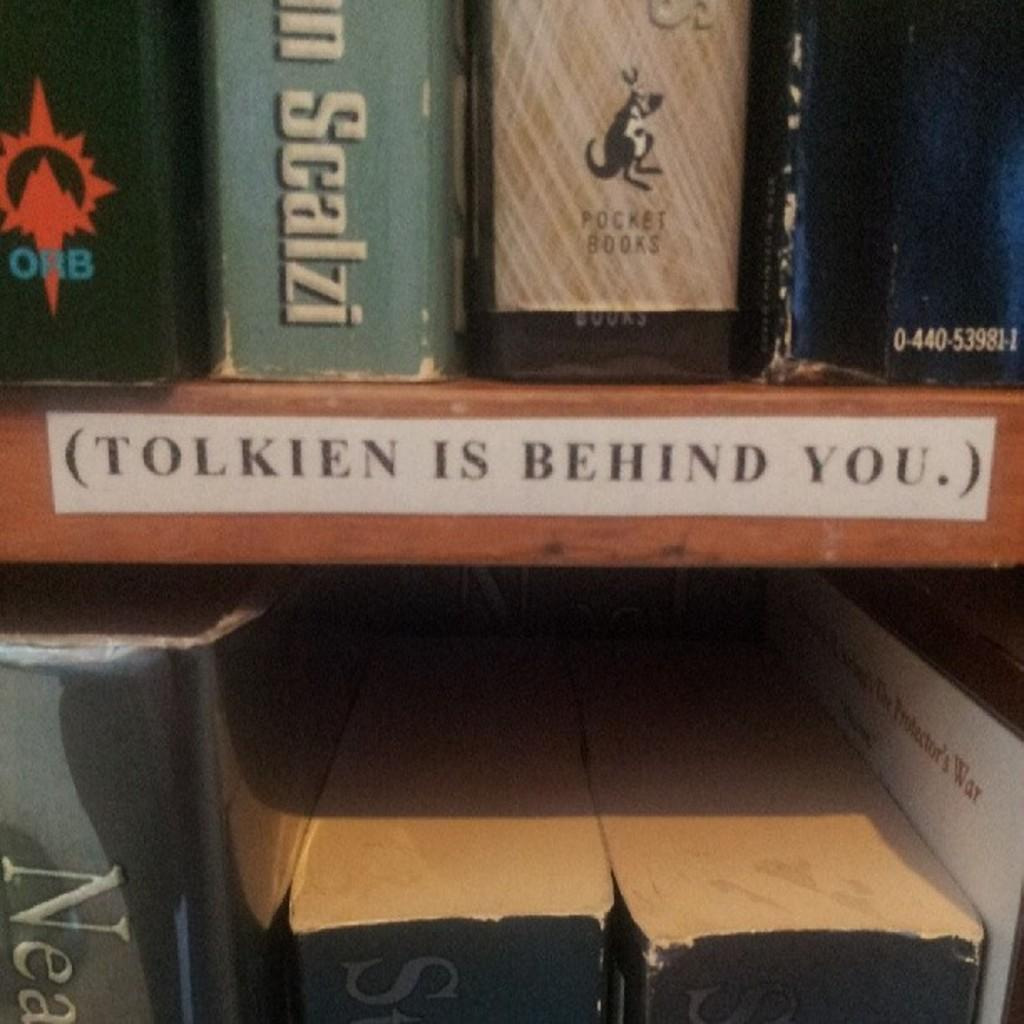Book: (577, 661, 996, 1022), (0, 569, 301, 1022), (296, 646, 639, 1022), (470, 0, 763, 381), (753, 0, 1022, 388), (201, 0, 465, 381), (0, 0, 199, 393)
